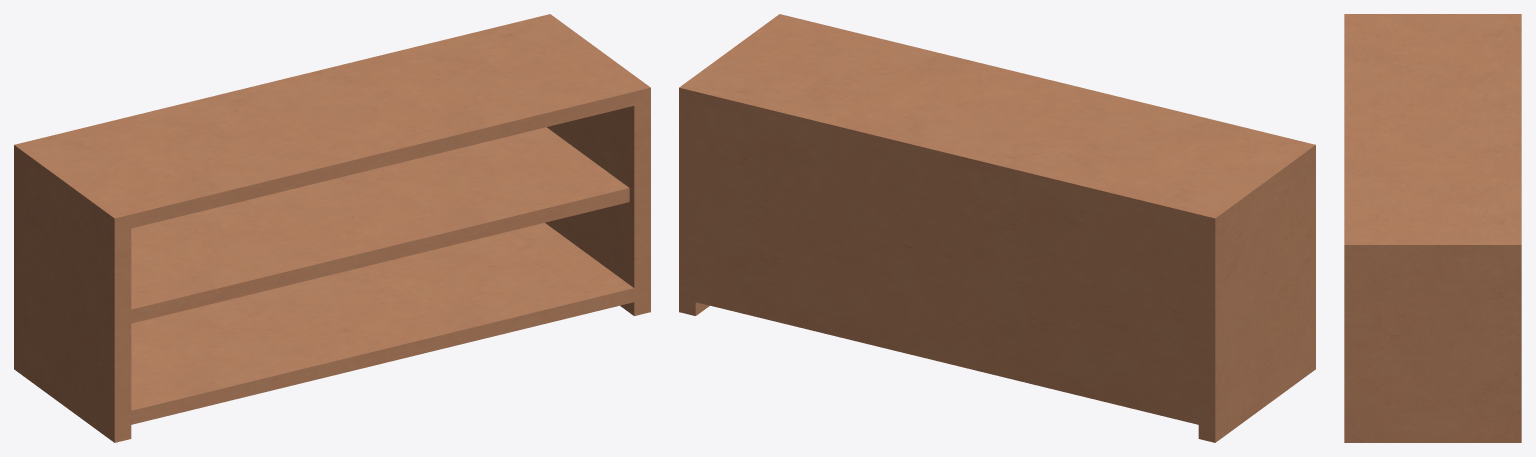
The model's file is WIdeShelf.fbx.
3 renders of one model, left to right at view 1: azimuth 30°, elevation 25°; view 2: azimuth 150°, elevation 25°; view 3: azimuth 270°, elevation 25°, orthographic. The views are drawn at different scales.
Parts seen in each view (by area): view 1: WIdeShelf; view 2: WIdeShelf; view 3: WIdeShelf.
Boxes of the visible parts, x1,y1,x2,y2 form: WIdeShelf: (14,14,650,442); WIdeShelf: (679,14,1315,442); WIdeShelf: (1344,14,1521,442).
Bounding box in the file's own units: 2 × 0.8 × 0.65.
